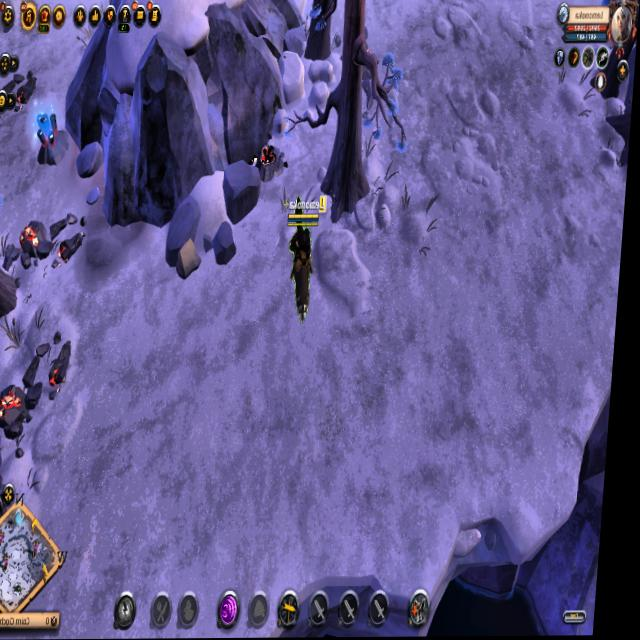ore tier 5: (35, 104, 73, 168)
rock tier 1: (178, 238, 206, 282)
